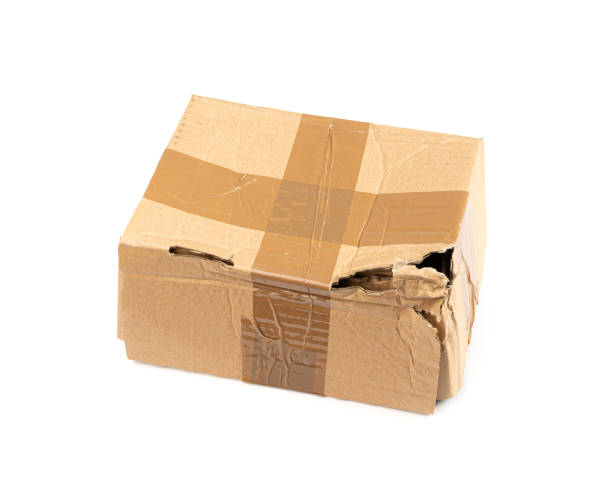damaged package: (326, 238, 481, 404), (176, 247, 255, 277)
